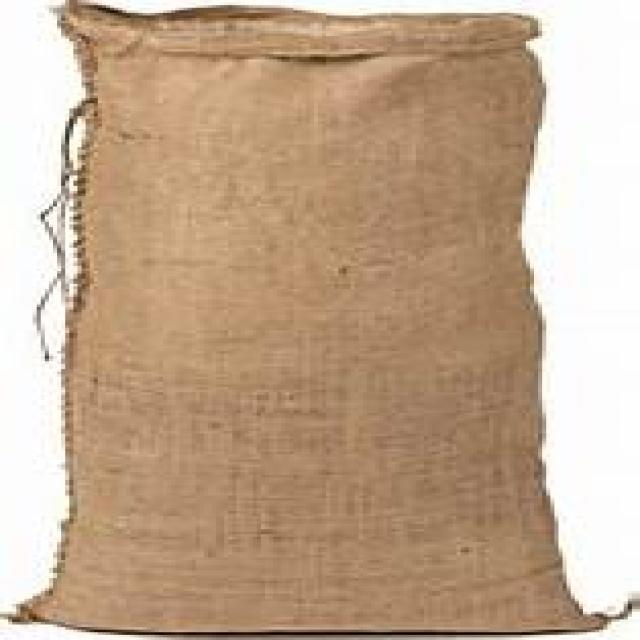gunny_bag: (5, 0, 619, 640)
